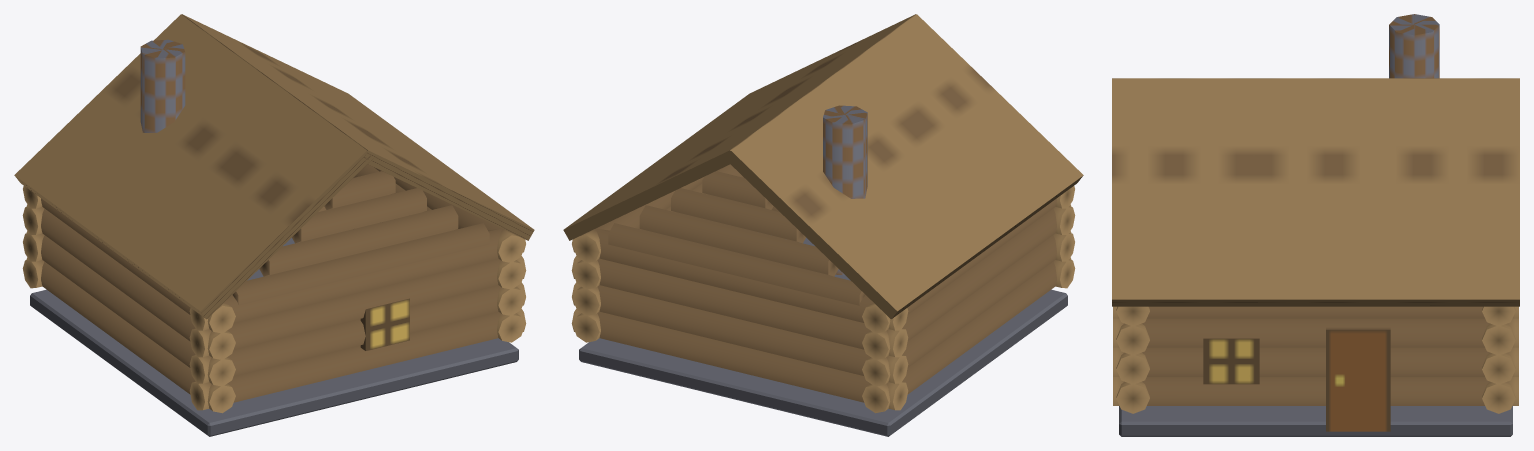
The model's file is prop_cabin_b392.glb.
The picture shows the model from 3 angles, left to right: view 1: azimuth 30°, elevation 25°; view 2: azimuth 150°, elevation 25°; view 3: azimuth 270°, elevation 25°; orthographic projection. The views are drawn at different scales.
Visible parts, largest first — view 1: prop_cabin_b392; view 2: prop_cabin_b392; view 3: prop_cabin_b392.
Part boxes in pixels (<box>): prop_cabin_b392: <box>14,14,534,436</box>; prop_cabin_b392: <box>563,14,1083,436</box>; prop_cabin_b392: <box>1112,14,1519,436</box>.
Bounding box in the file's own units: 2.66 × 2.04 × 2.56.
Materials: 1 (1 with a texture image).
